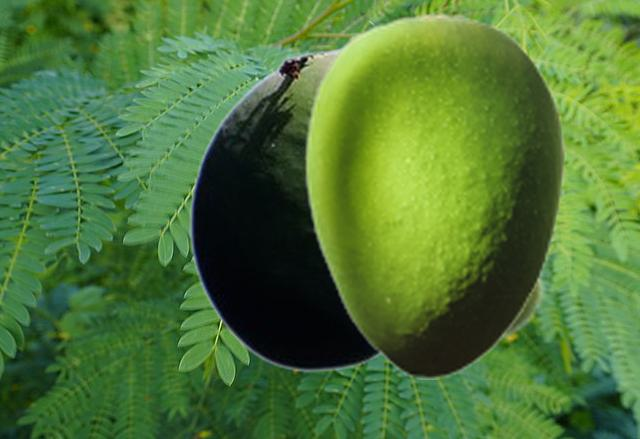green_mango: (303, 12, 565, 378), (188, 44, 381, 371)
